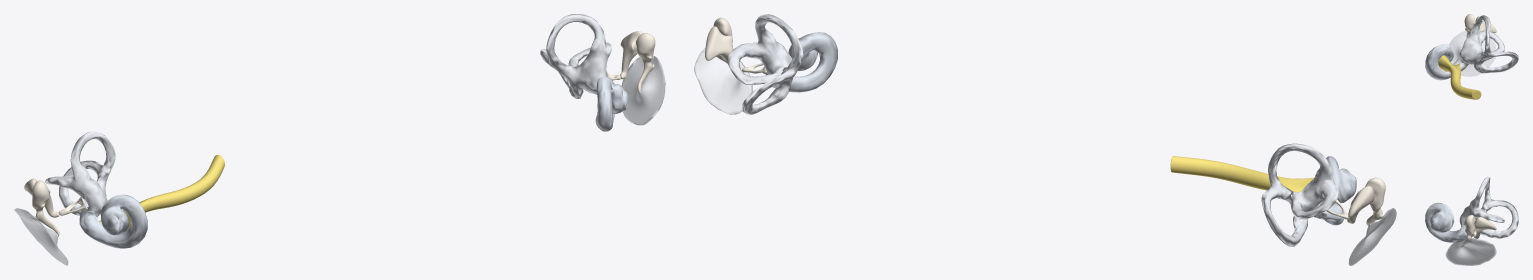
File: submodel_auditory_apparatus.glb
3 renders of one model, left to right at view 1: azimuth 30°, elevation 25°; view 2: azimuth 150°, elevation 25°; view 3: azimuth 270°, elevation 25°, orthographic. The views are drawn at different scales.
Parts seen in each view (by area): view 1: Auditory_Vestibule_Canals, Auditory_Cochlea, Auditory_Tympanic_Membrane, Auditory_Cochlear_Nerve, Auditory_Malleus, Auditory_Incus; view 2: Auditory_Vestibule_Canals, Auditory_Tympanic_Membrane, Auditory_Cochlea, Auditory_Cochlear_Nerve, Auditory_Incus, Auditory_Malleus; view 3: Auditory_Vestibule_Canals, Auditory_Cochlea, Auditory_Tympanic_Membrane, Auditory_Cochlear_Nerve, Auditory_Malleus, Auditory_Incus.
Part boxes in pixels (<box>): Auditory_Vestibule_Canals: <box>45,14,611,217</box>; Auditory_Cochlea: <box>79,76,628,248</box>; Auditory_Tympanic_Membrane: <box>14,55,665,265</box>; Auditory_Cochlear_Nerve: <box>99,154,224,227</box>; Auditory_Malleus: <box>30,33,655,236</box>; Auditory_Incus: <box>24,31,642,217</box>; Auditory_Vestibule_Canals: <box>727,14,1338,246</box>; Auditory_Tympanic_Membrane: <box>694,48,1396,265</box>; Auditory_Cochlea: <box>766,32,1356,225</box>; Auditory_Cochlear_Nerve: <box>1170,156,1313,192</box>; Auditory_Incus: <box>705,26,1374,223</box>; Auditory_Malleus: <box>713,17,1385,226</box>; Auditory_Vestibule_Canals: <box>1459,15,1518,238</box>; Auditory_Cochlea: <box>1425,44,1468,242</box>; Auditory_Tympanic_Membrane: <box>1445,30,1496,265</box>; Auditory_Cochlear_Nerve: <box>1438,55,1481,99</box>; Auditory_Malleus: <box>1462,14,1475,246</box>; Auditory_Incus: <box>1473,16,1496,238</box>.
Bounding box in the file's own units: 0.1012 × 0.0166 × 0.0192.
